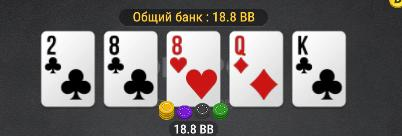2c: (43, 33, 94, 107)
8c: (105, 33, 156, 105)
8h: (168, 32, 219, 105)
Kc: (294, 33, 346, 106)
Qd: (231, 33, 281, 105)
